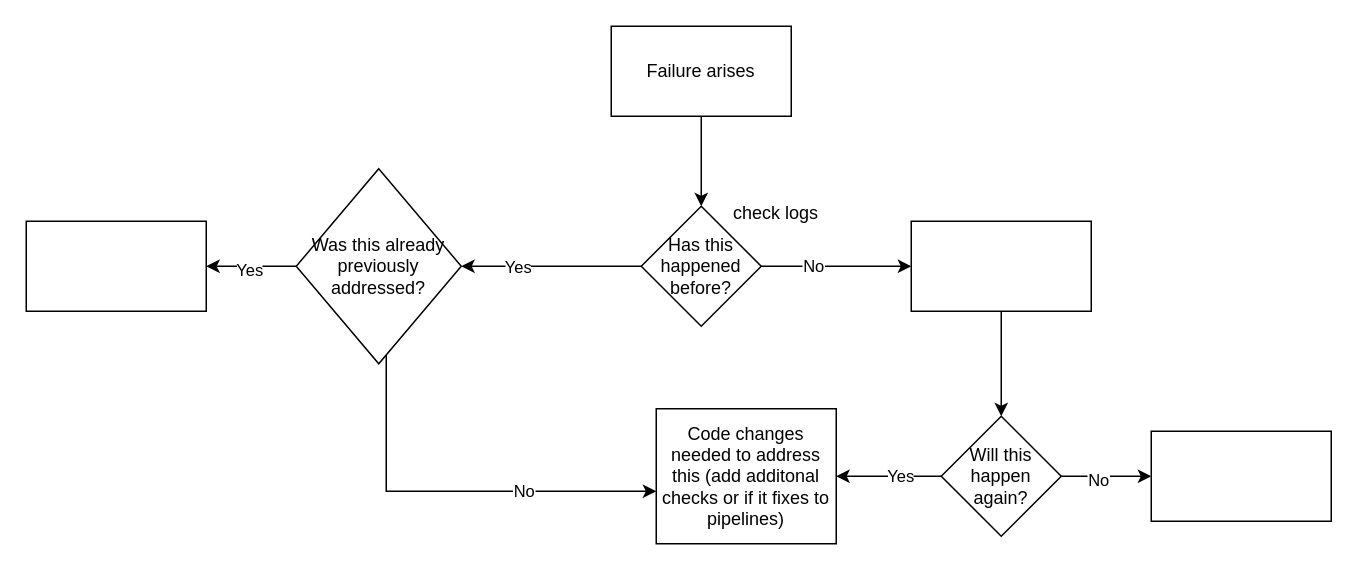
Some shapes in this 1358 by 570 pixel diagram are drawn without their labels. Each missing label, with the centre of its shape:
Address issue with producer to fix this one time event. (resend file/event): the point at 1240,475
Do nothing: the point at 115,265
What is causing this to happen(root cause analysis).: the point at 1000,265
